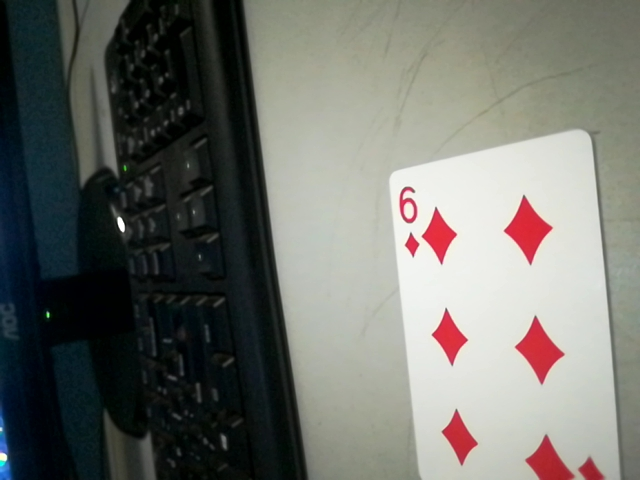fk 6: (388, 178, 429, 262)
